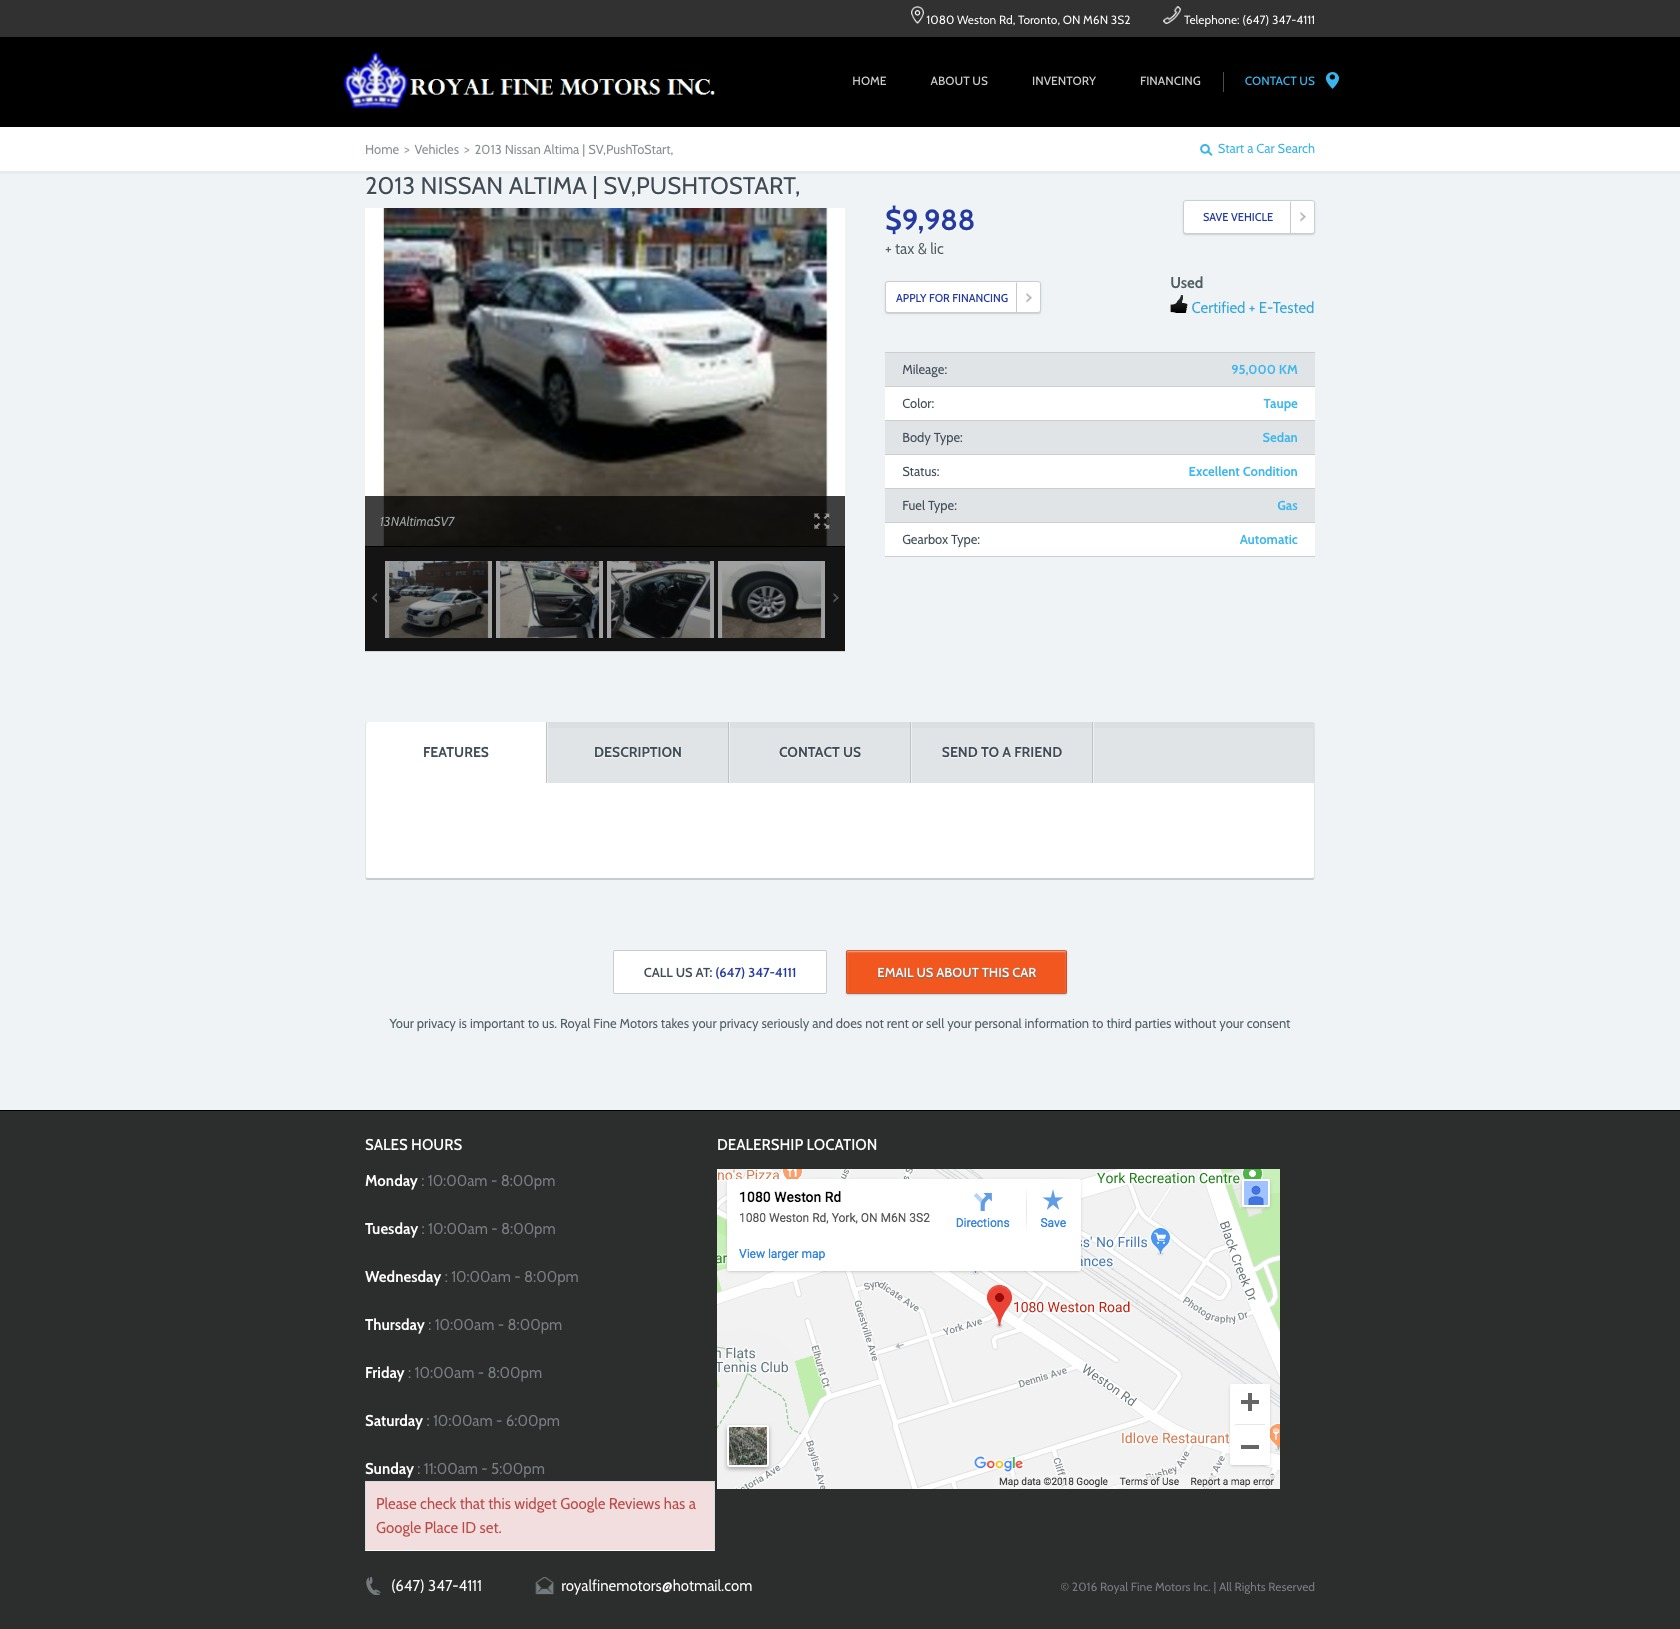car: (832, 592, 841, 604)
